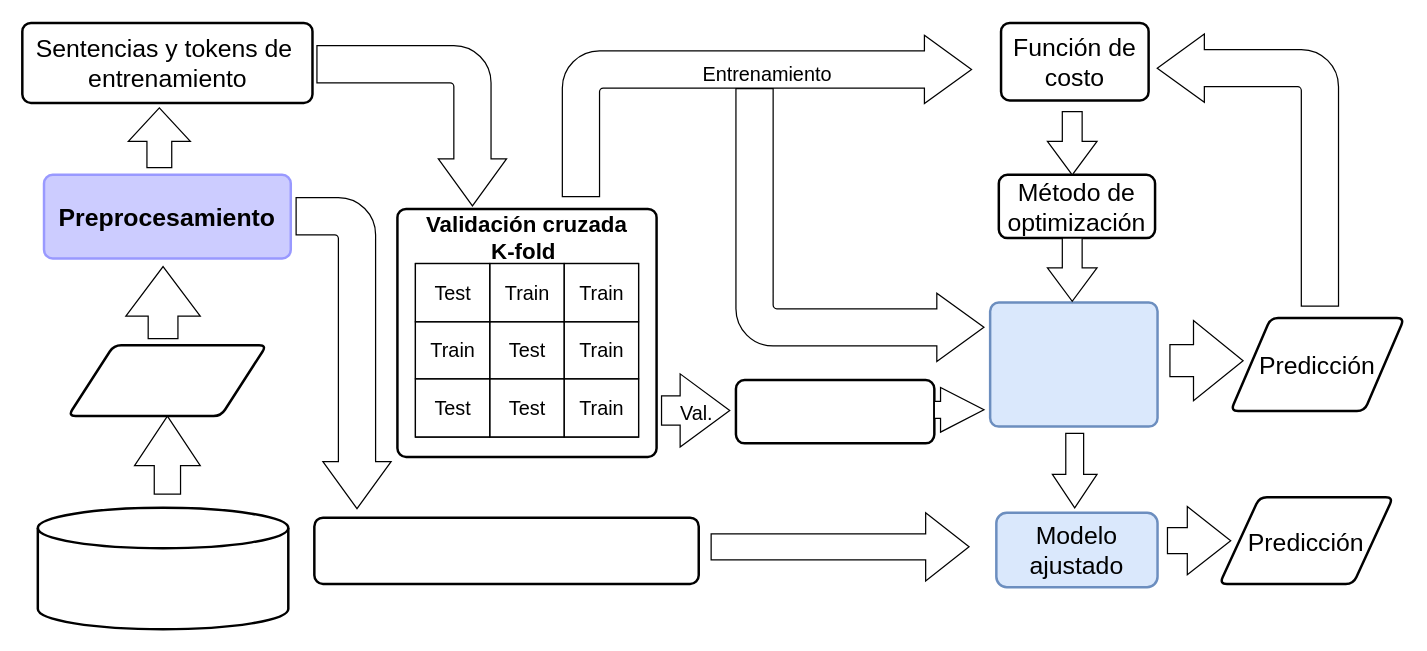
This 1427x651 diagram has some shape labels left out. Here are the shapes that lost their labels. From the top down, the centre of each, then its label:
At point 166,380: "Etiquetado".
At point 1073,364: "Modelo Preentrenado".
At point 834,411: "Ajuste de hiperparamentros".
At point 162,568: "Base de datos".
At point 505,550: "Sentencias y tokens de testeo".
